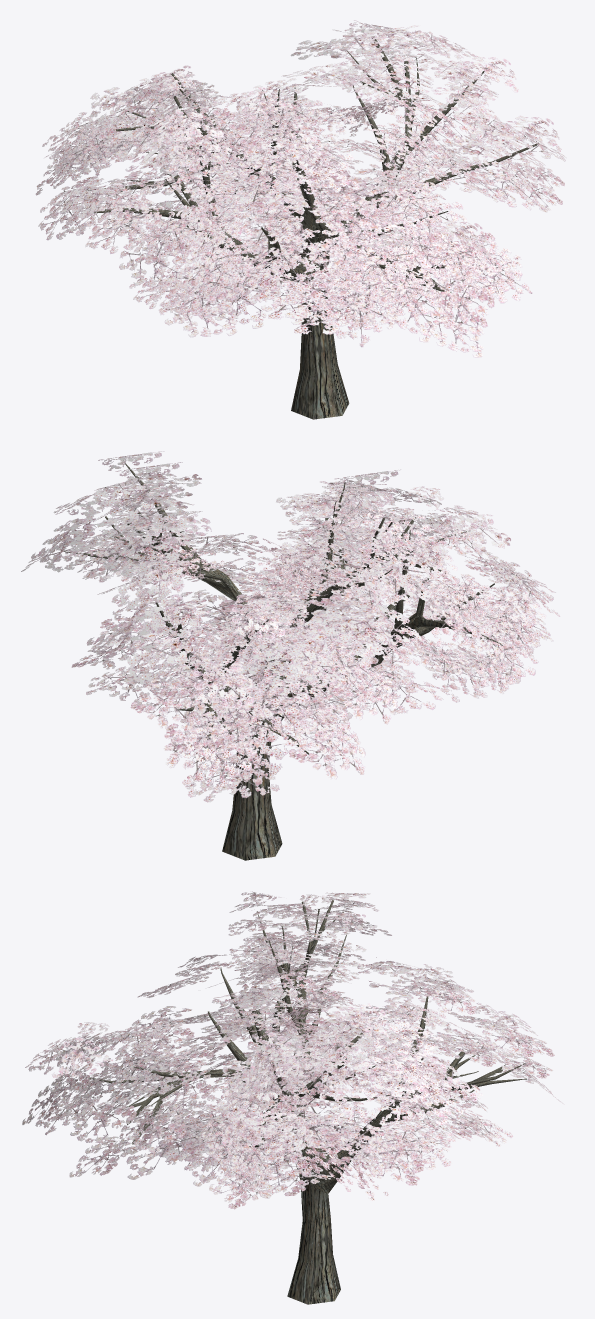
Rendered from Tree_Cherry_01.fbx.
3 views of the same model, one above another, from view 1: azimuth 30°, elevation 25°; view 2: azimuth 150°, elevation 25°; view 3: azimuth 270°, elevation 25° (orthographic). The views are drawn at different scales.
Parts seen in each view (by area): view 1: Tree_Cherry_01_Leaf, Tree_Cherry_01_Trunk; view 2: Tree_Cherry_01_Leaf, Tree_Cherry_01_Trunk; view 3: Tree_Cherry_01_Leaf, Tree_Cherry_01_Trunk.
Part boxes in pixels (left/top/right/bottom): Tree_Cherry_01_Leaf: left=35, top=20, right=566, bottom=357; Tree_Cherry_01_Trunk: left=86, top=36, right=538, bottom=419; Tree_Cherry_01_Leaf: left=21, top=451, right=559, bottom=802; Tree_Cherry_01_Trunk: left=64, top=460, right=502, bottom=860; Tree_Cherry_01_Leaf: left=22, top=891, right=564, bottom=1209; Tree_Cherry_01_Trunk: left=83, top=900, right=526, bottom=1304.
Size of the model in its own units: 963 by 660 by 1016.
Materials: 2 (2 with a texture image).
